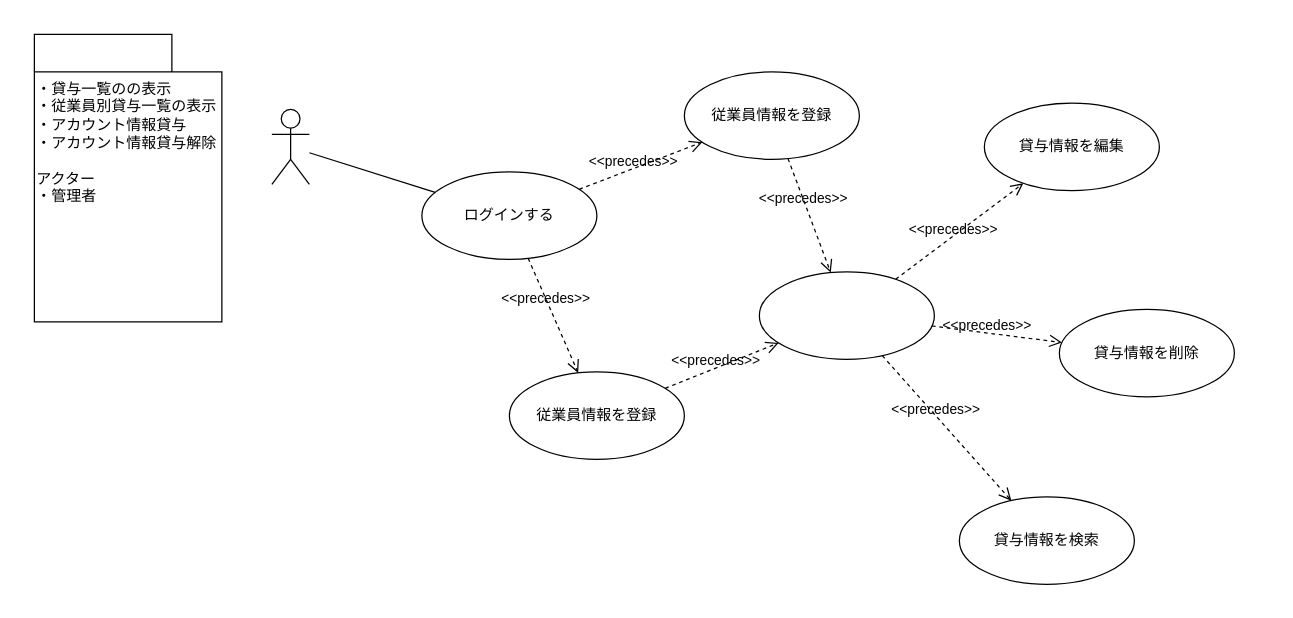
Image size: 1293x618. Some labels were removed from this diagram. The shapes that lost their labels are listed below. From the top down, each one's box as (x1, y1, x2, y2) in pixels, then its label:
(271, 108, 309, 184): 管理者
(33, 33, 222, 322): 貸与
(758, 271, 934, 359): 貸与情報を登録
